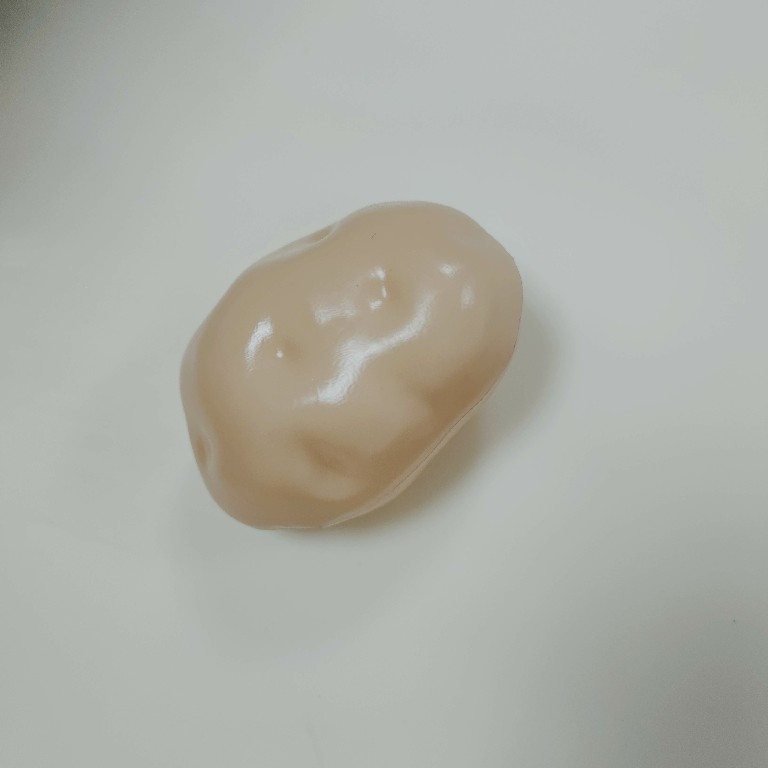fruit_potato: (174, 196, 527, 539)
